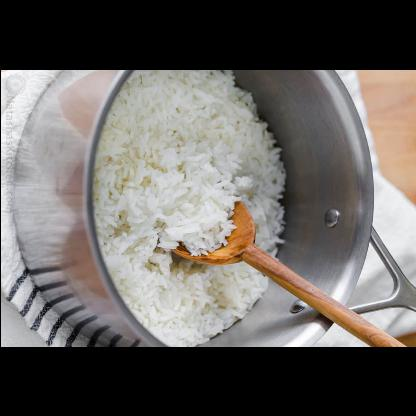banana: (90, 69, 288, 345)
